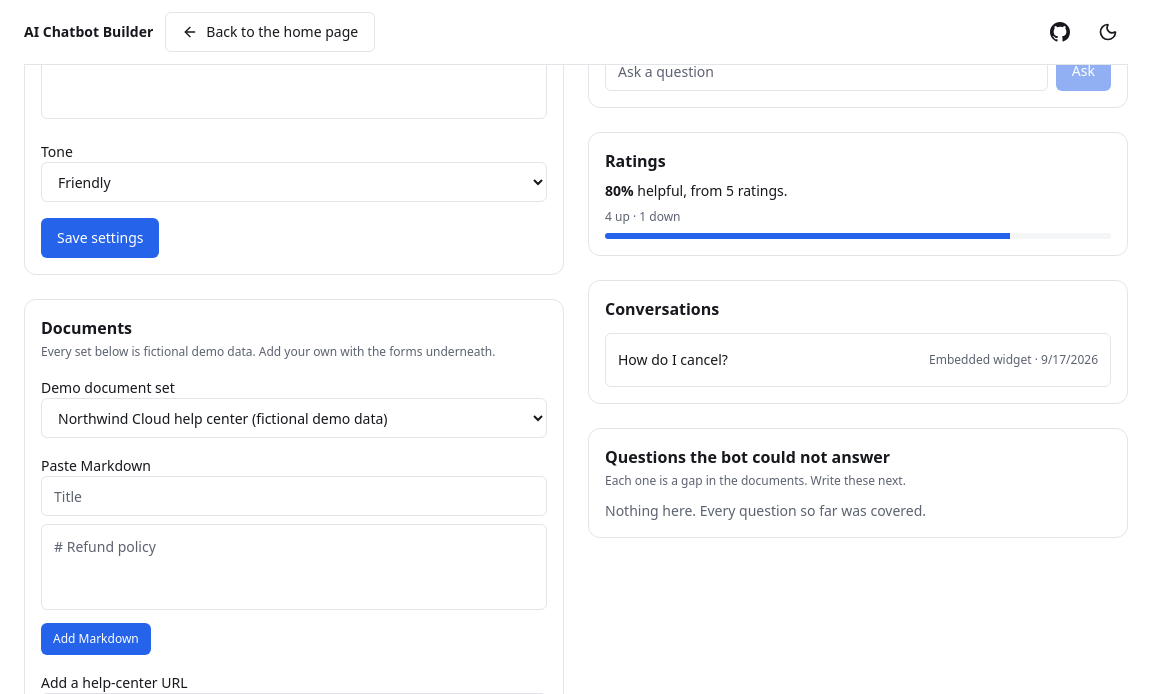
Test case: 5.4 conversation log › opens an exchange and shows its sources
The image size is (1152, 694).
(page scrolled)
Expected: the text "Sources" is not shown
Click the button "How do I cancel? Embedded widget · 9/17/2026".
click(673, 360)  # box [618,346,1098,374]
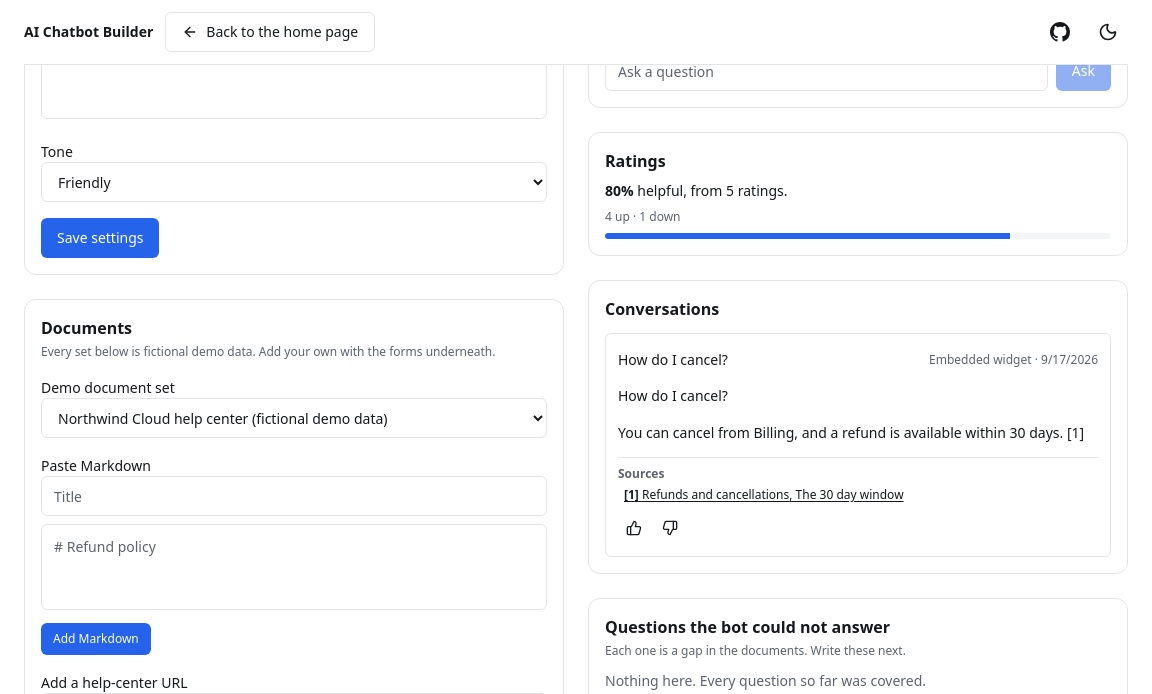
Expected: the text "cancel from Billing" is shown, [618,423,1084,442]
Expected: the button "[1] Refunds and cancellations, The 30 day window" is shown, [618,486,910,504]
